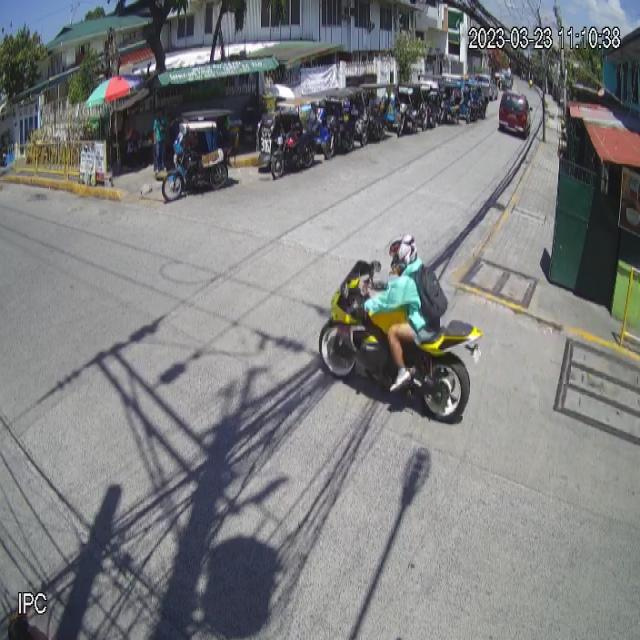Motorcycle: (318, 258, 482, 424)
